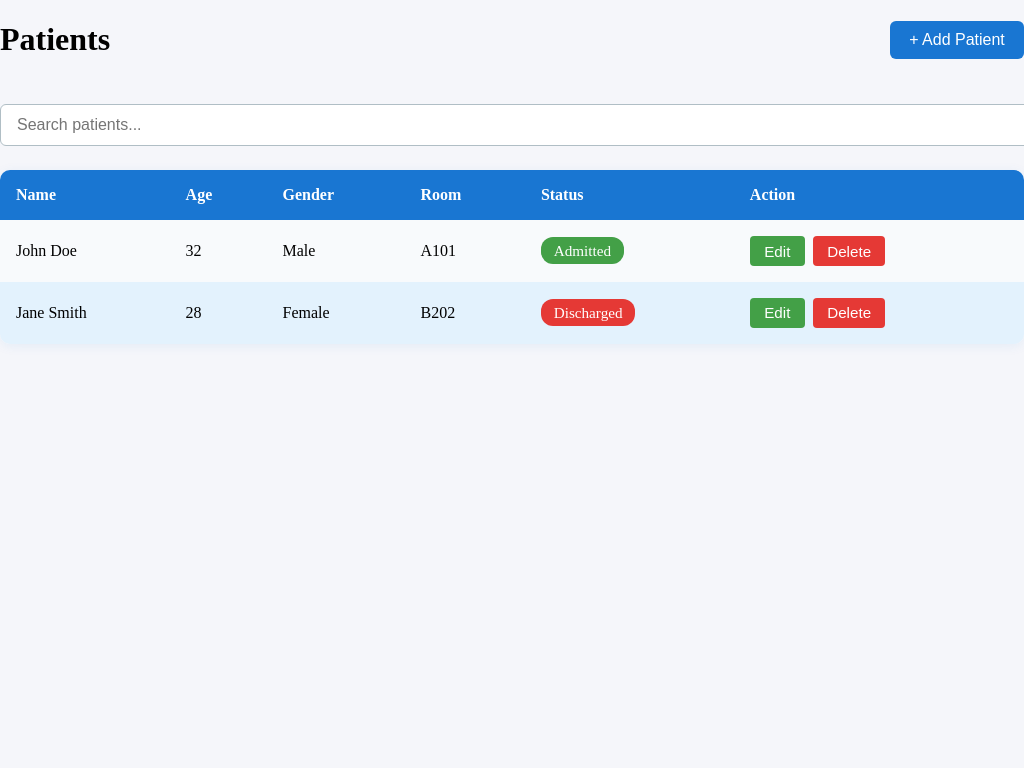
Test: PatientsView.vue › opens add modal when add button is clicked
The width and height of the screenshot is (1024, 768).
Click the button with class "add-btn".
click(957, 40)  # box [890,21,1023,58]
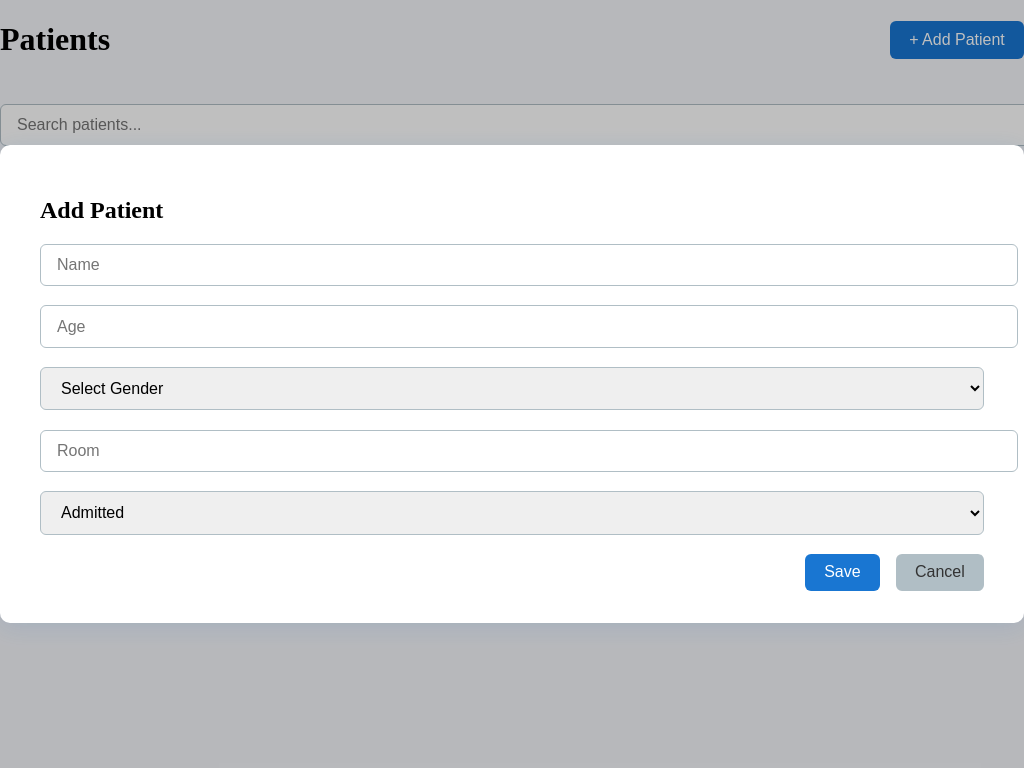
Check: the element with class "modal" is shown
